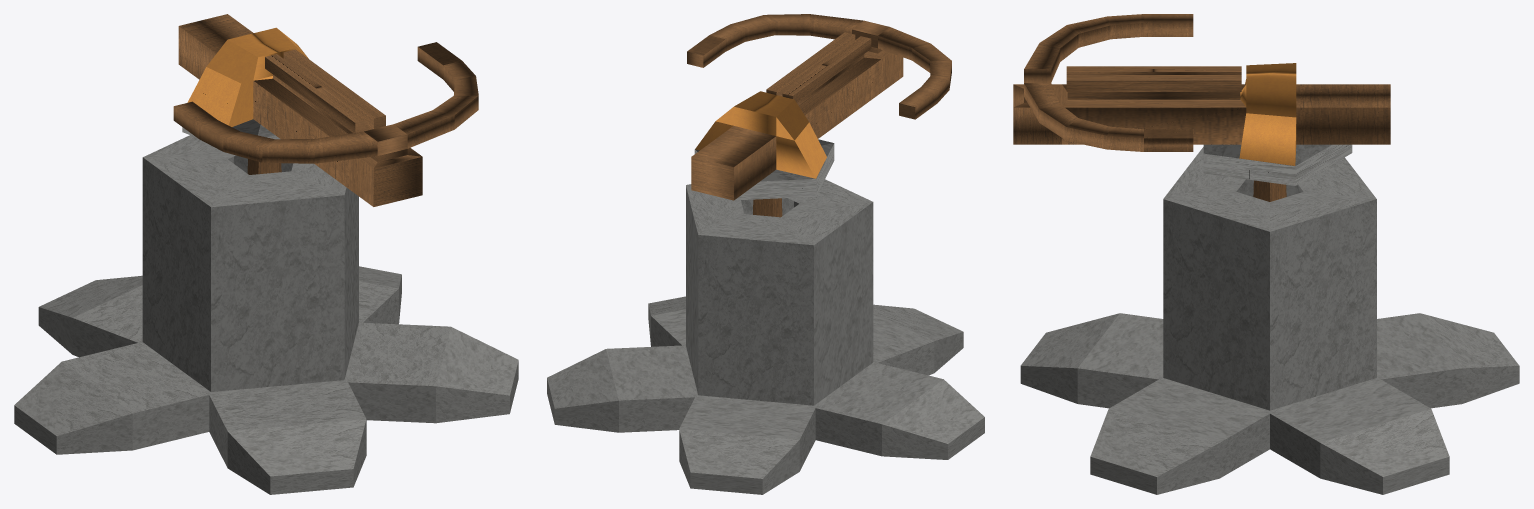
The model's file is groundtrap_2_crossbow turret.fbx.
The picture shows the model from 3 angles, left to right: view 1: azimuth 30°, elevation 25°; view 2: azimuth 150°, elevation 25°; view 3: azimuth 270°, elevation 25°; orthographic projection. The views are drawn at different scales.
Visible parts, largest first — view 1: Polygon, boog; view 2: Polygon, boog, stok; view 3: Polygon, boog, stok.
Boxes of the visible parts, box(x1,y1,x2,y2) form: Polygon: box(14, 135, 518, 494); boog: box(173, 14, 478, 206); Polygon: box(547, 179, 984, 494); boog: box(687, 14, 951, 200); stok: box(753, 198, 782, 217); Polygon: box(1020, 147, 1519, 494); boog: box(1013, 14, 1390, 185); stok: box(1253, 180, 1286, 201).
Bounding box in the file's own units: 112 × 86.08 × 120.
Materials: 1 (1 with a texture image).
